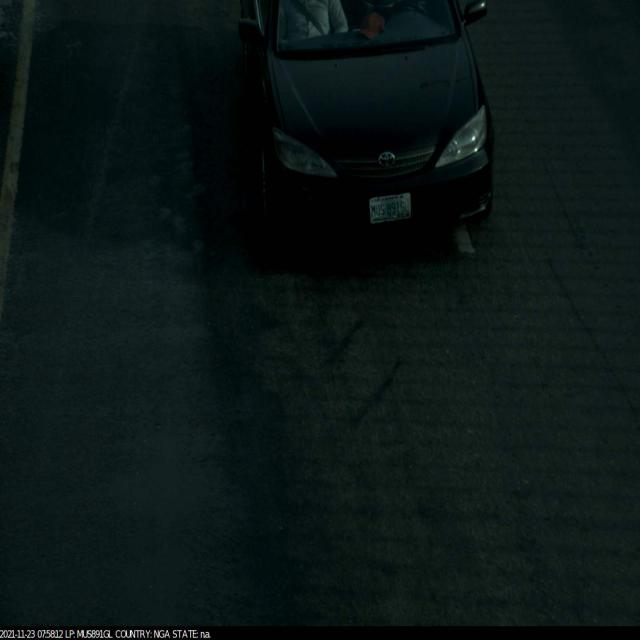windshield: (276, 0, 459, 56)
